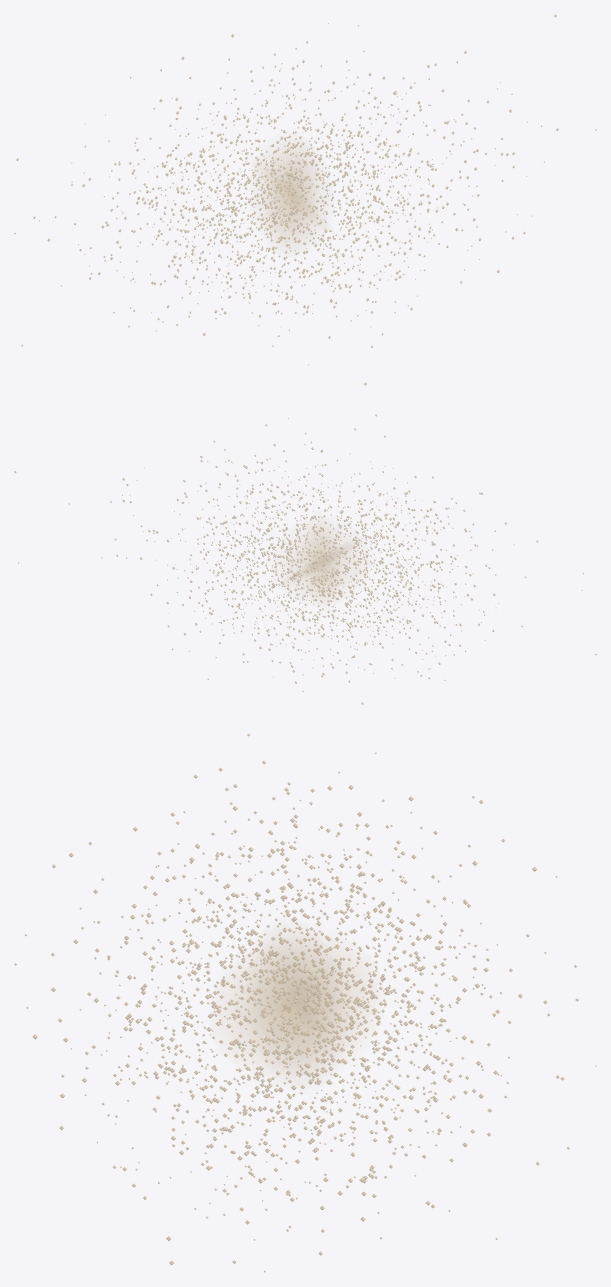
3 renders of one model, top to bottom at view 1: azimuth 30°, elevation 25°; view 2: azimuth 150°, elevation 25°; view 3: azimuth 270°, elevation 25°, orthographic. The views are drawn at different scales.
Size of the model in its own units: 9.29 by 4.75 by 5.33.
